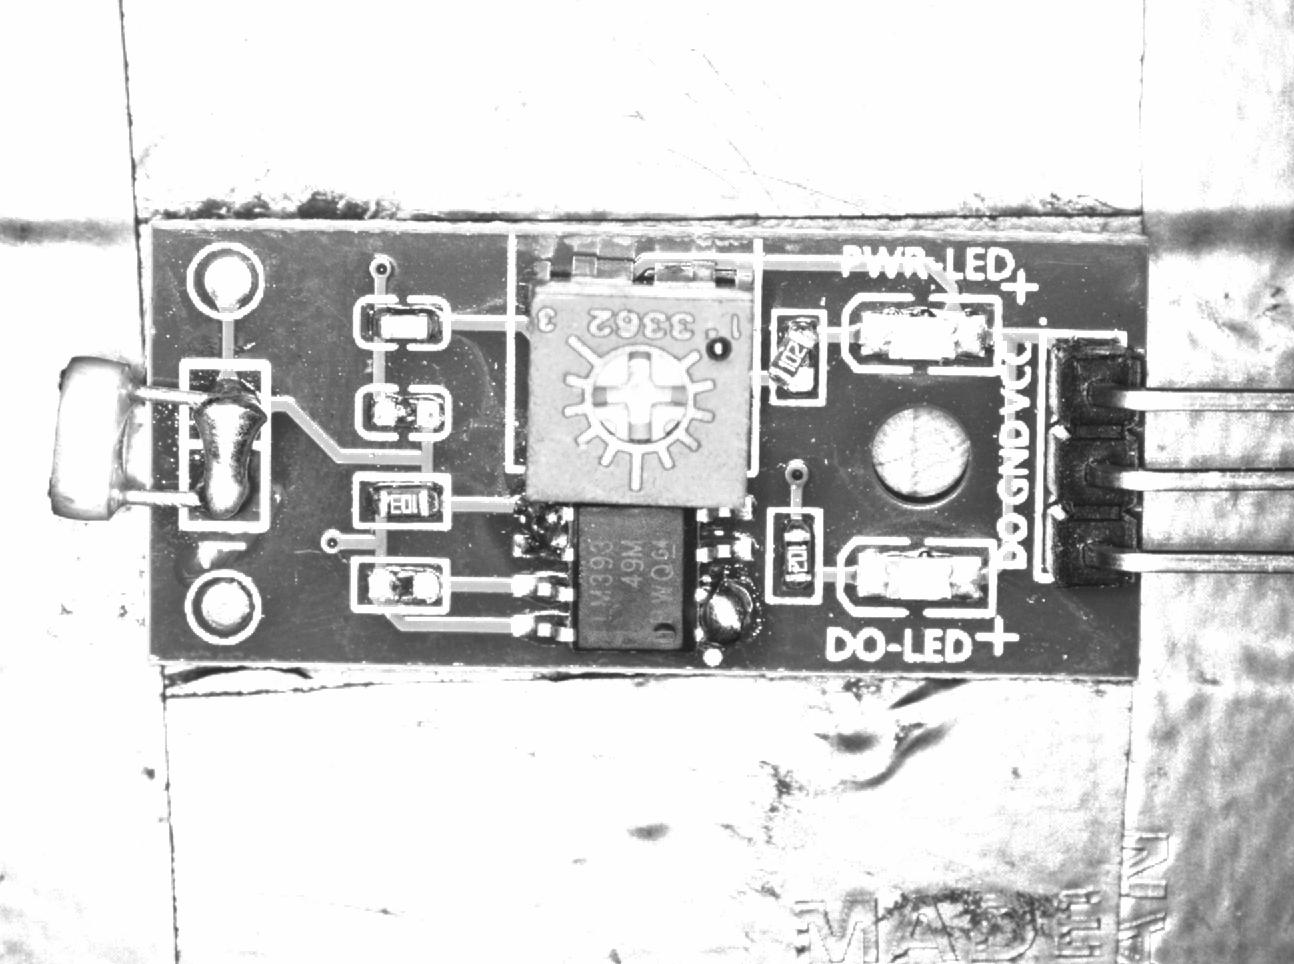bridge: (181, 365, 274, 538), (690, 570, 763, 648), (509, 494, 573, 569)
lifted: (766, 312, 824, 408)
miss: (354, 553, 451, 618), (352, 383, 454, 440)
ok: (353, 472, 454, 532), (350, 294, 450, 351), (773, 507, 823, 605)
